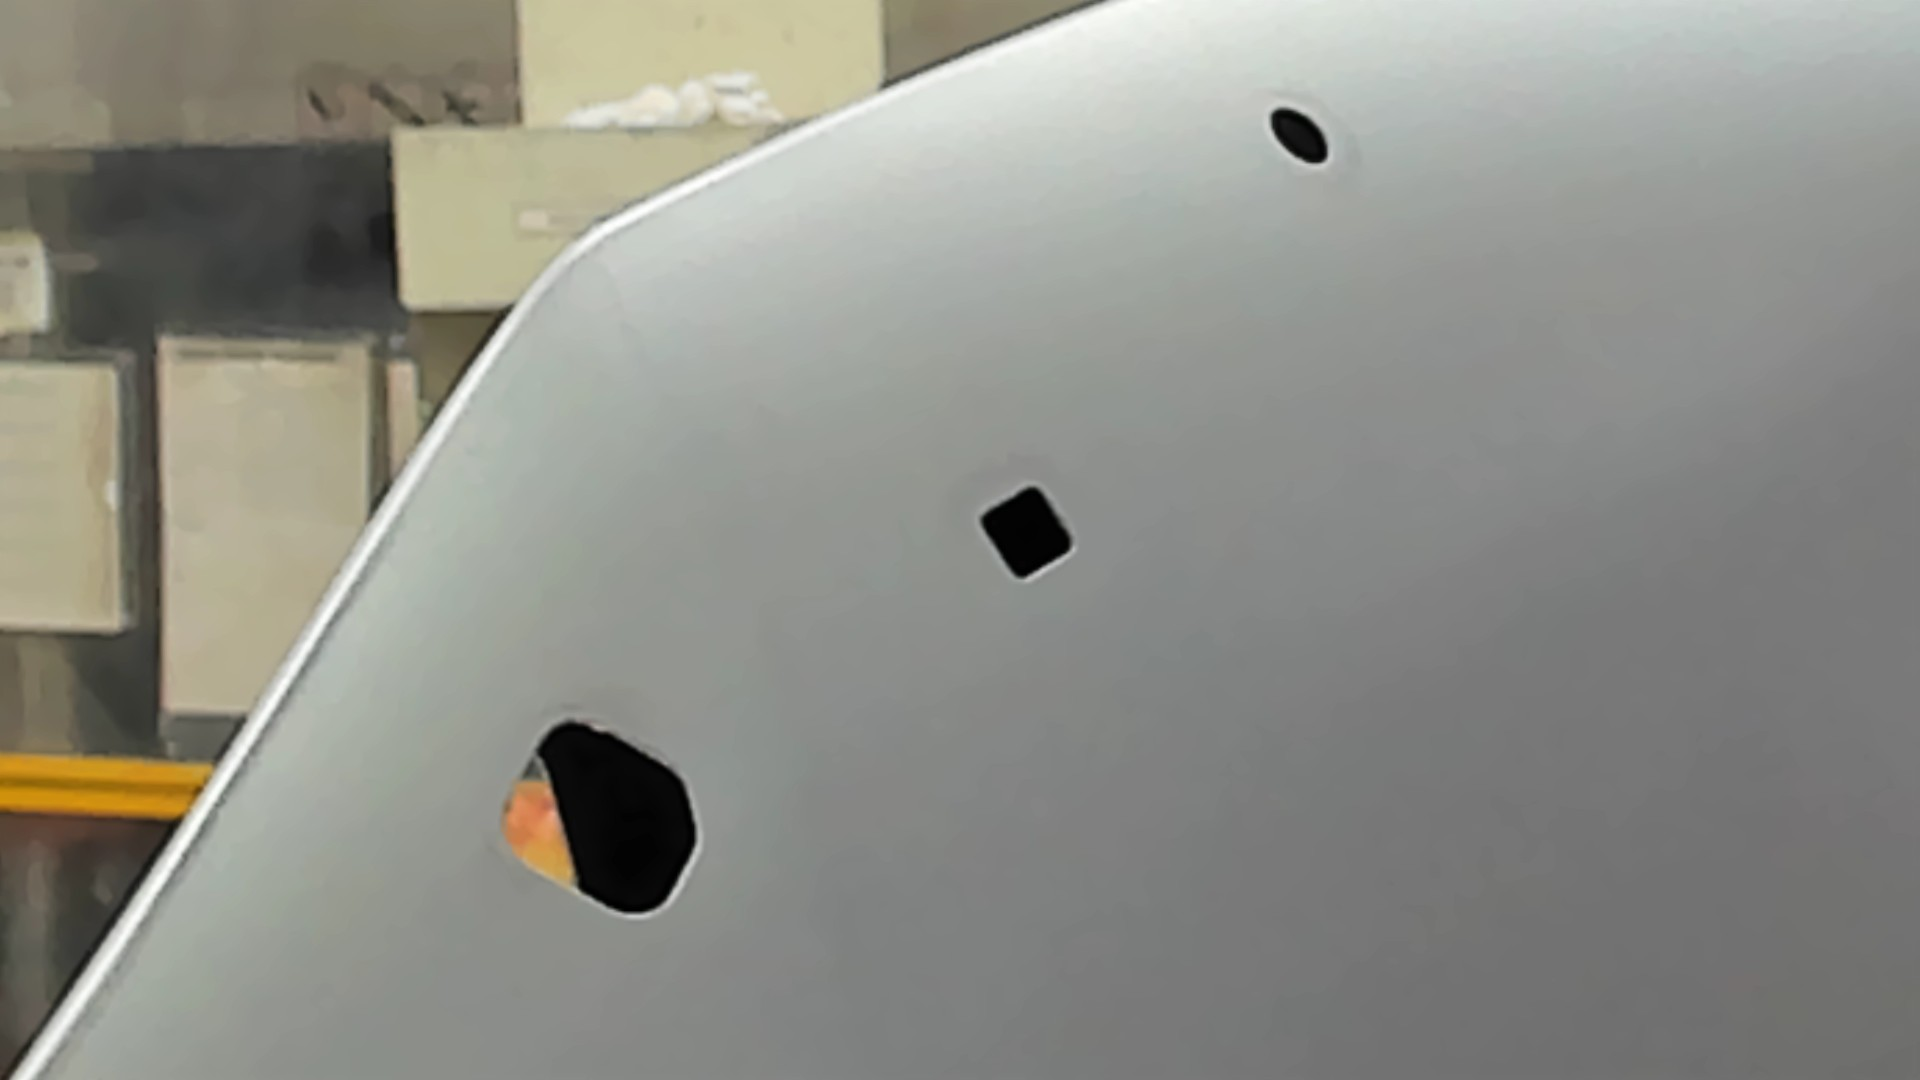capo: (1081, 170, 1920, 1080)
chico: (1261, 103, 1338, 171)
grande: (493, 711, 707, 926)
mediano: (971, 477, 1079, 585)
